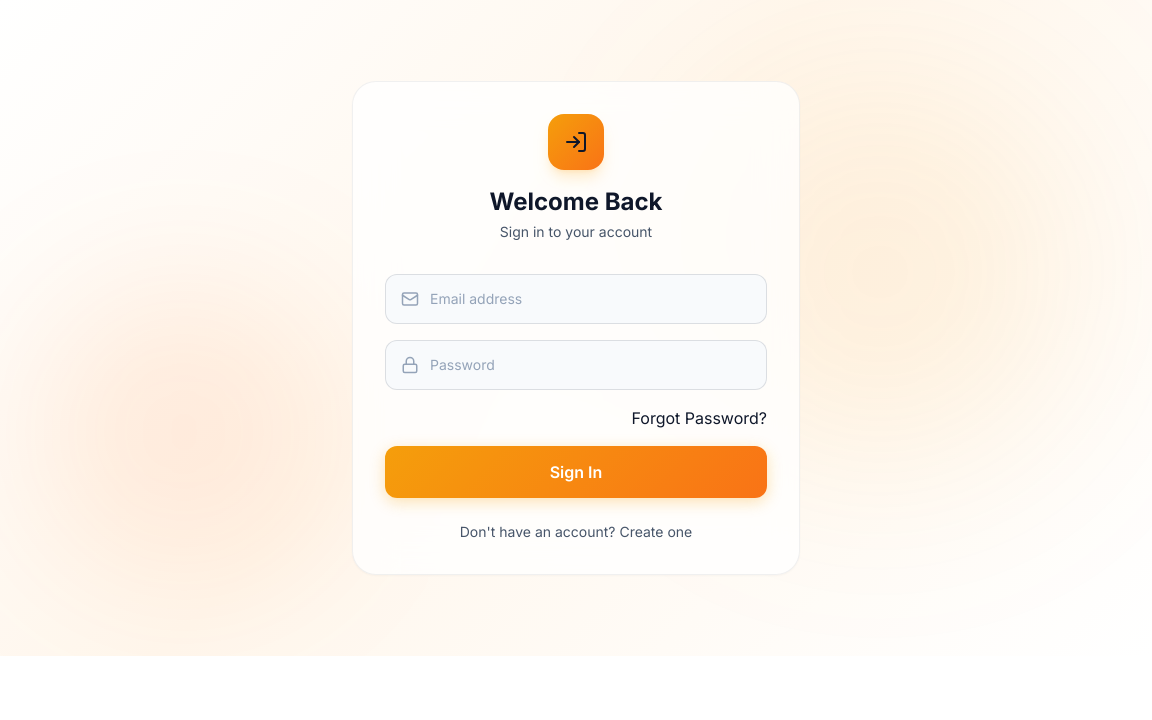
Login error messages › falls back to a friendly message when a 401 carries none
In the field with placeholder "Email address": {"x": 576, "y": 299} top-left (385, 274), bottom-right (767, 324), type "rider@example.com"
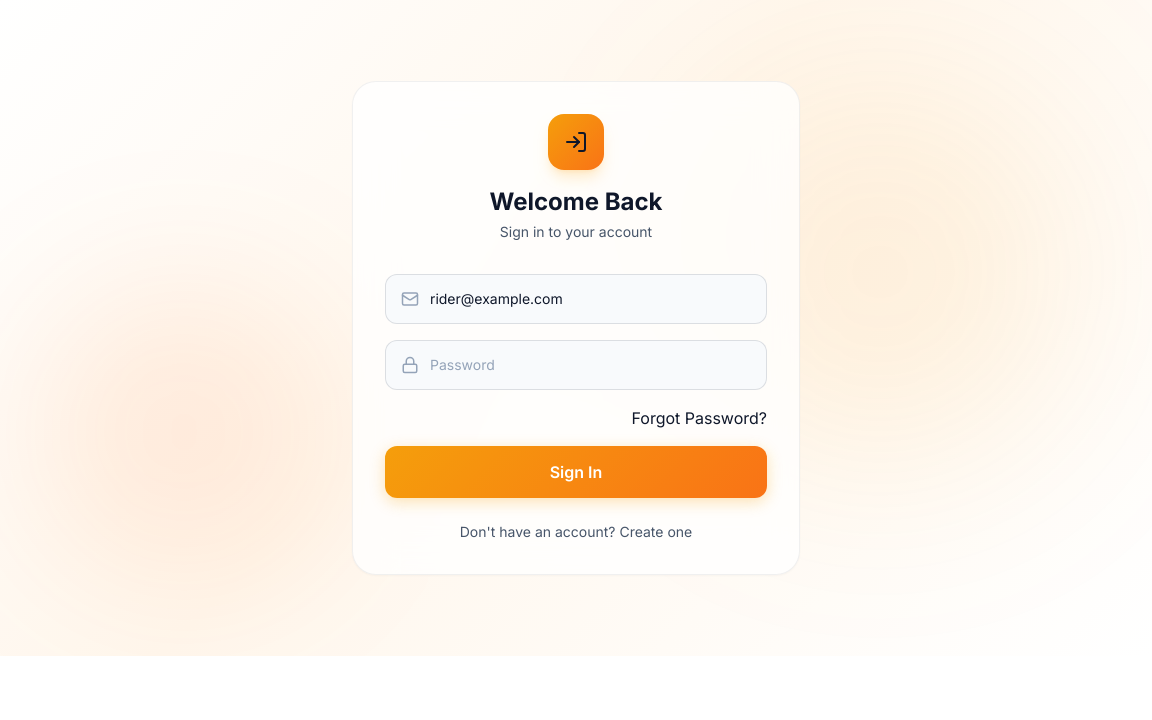
In the password field with placeholder "Password": {"x": 576, "y": 365} top-left (385, 340), bottom-right (767, 390), type "wrong-password"
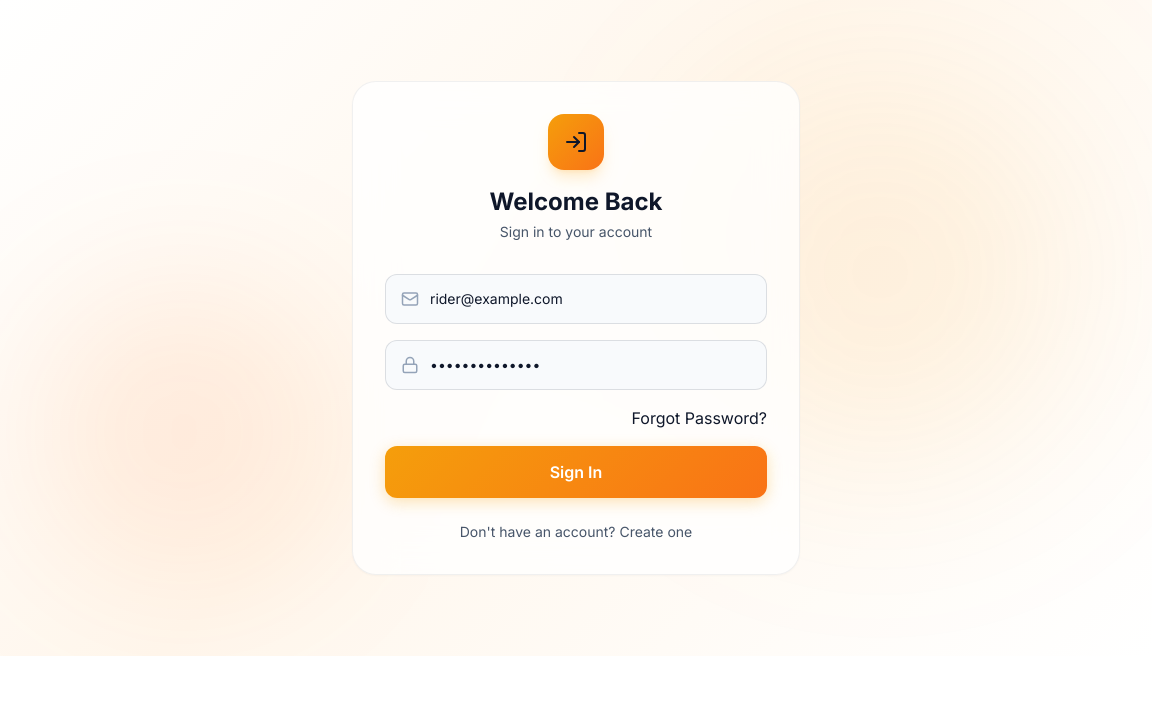
Click the button "Sign In": {"x": 576, "y": 472} top-left (385, 446), bottom-right (767, 498)
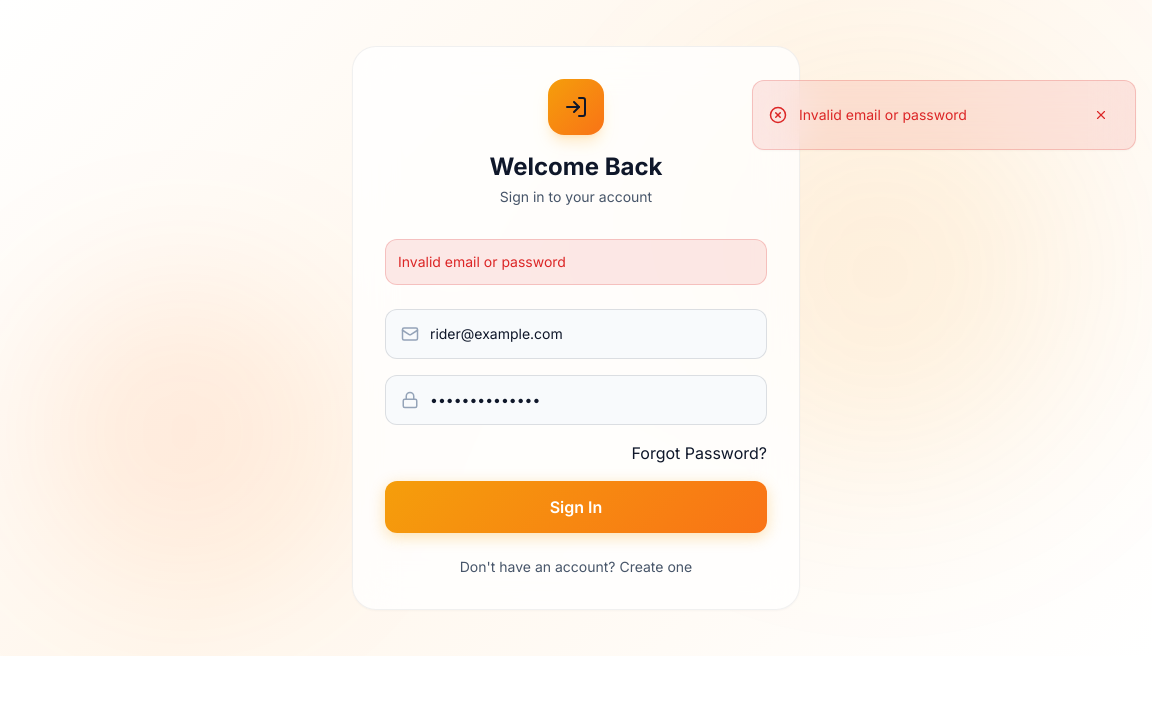
Expected: the text "Invalid email or password" is shown 2 times, top-left (385, 239), bottom-right (767, 285); top-left (799, 106), bottom-right (967, 123)
